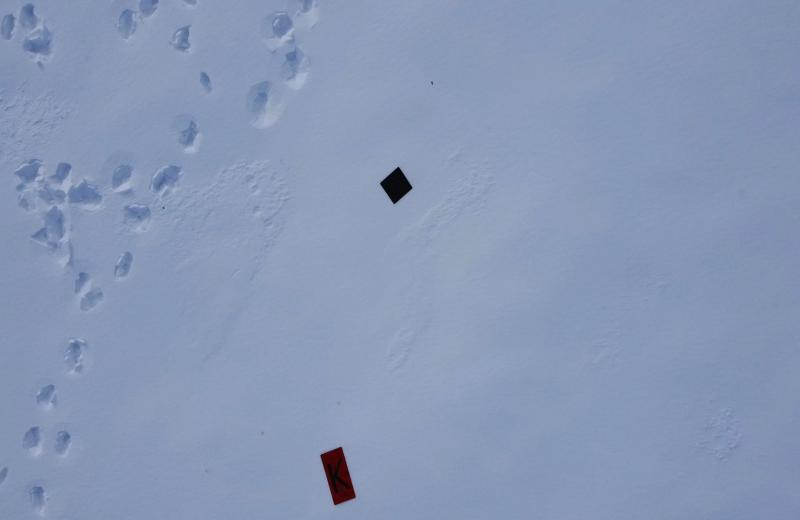Rectangle: (320, 446, 358, 506)
Square: (380, 164, 415, 204)
